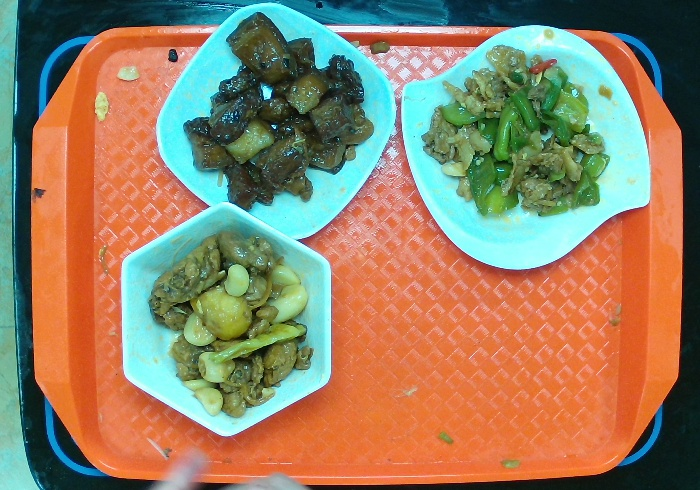RJxy-Liu_Jiao_Wan: (118, 199, 337, 440)
RJxy-Shuang_Jiao_Pan: (397, 19, 655, 274)
RJxy-Si_Fang_Wan: (150, 1, 396, 246)
